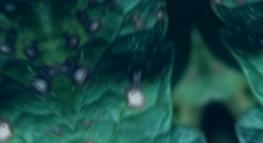Tomato Septoria leaf spot: (30, 0, 233, 143)
